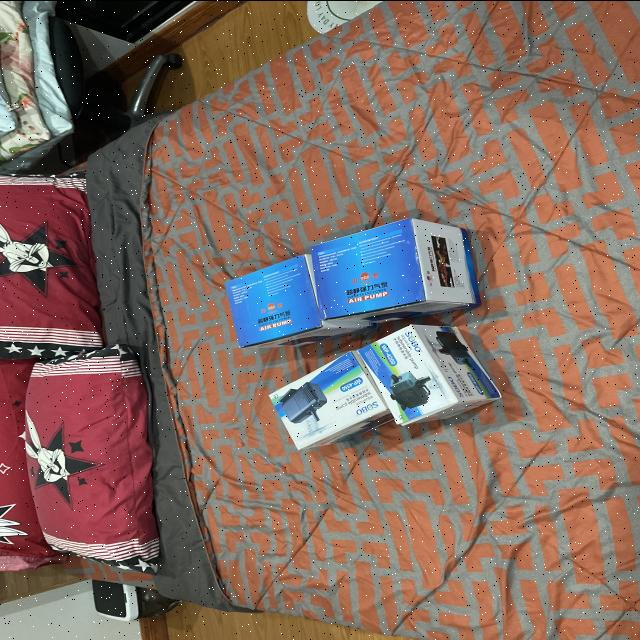SOBO_WP_4200: (347, 321, 511, 433), (253, 340, 381, 456)
YAMANO_LPP_20: (308, 206, 506, 326), (204, 242, 367, 350)
